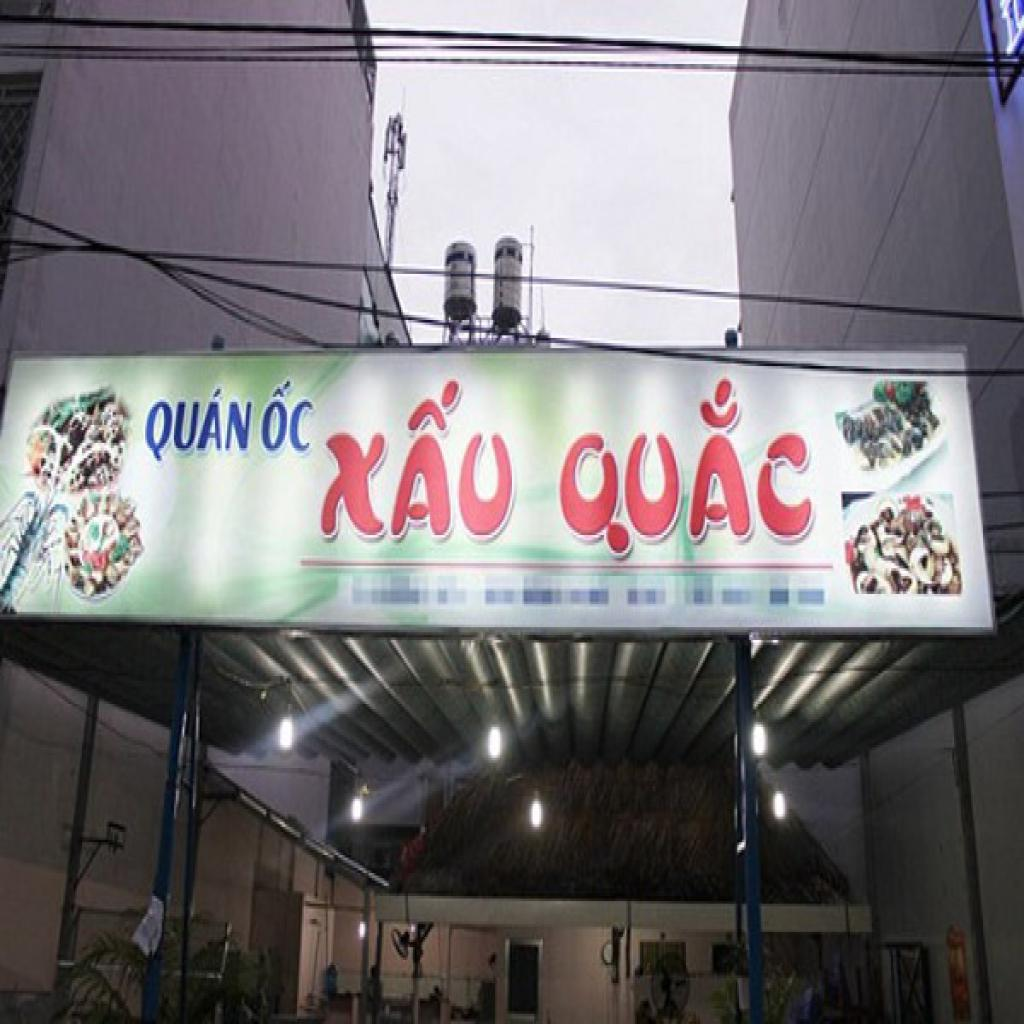text: (319, 376, 517, 548), (142, 386, 256, 464), (260, 379, 318, 456)
